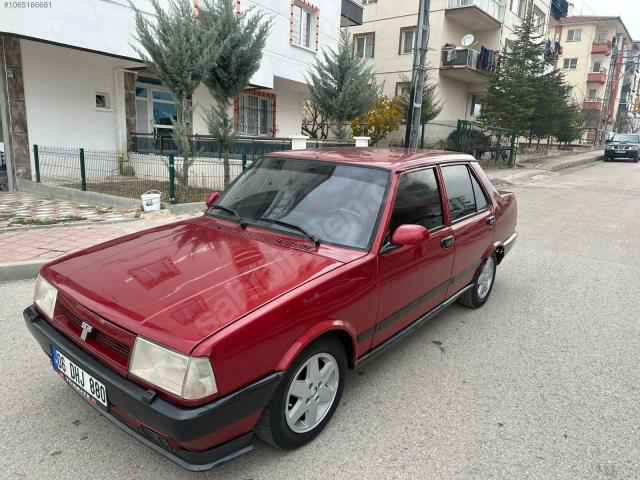plaka: (53, 348, 107, 407)
